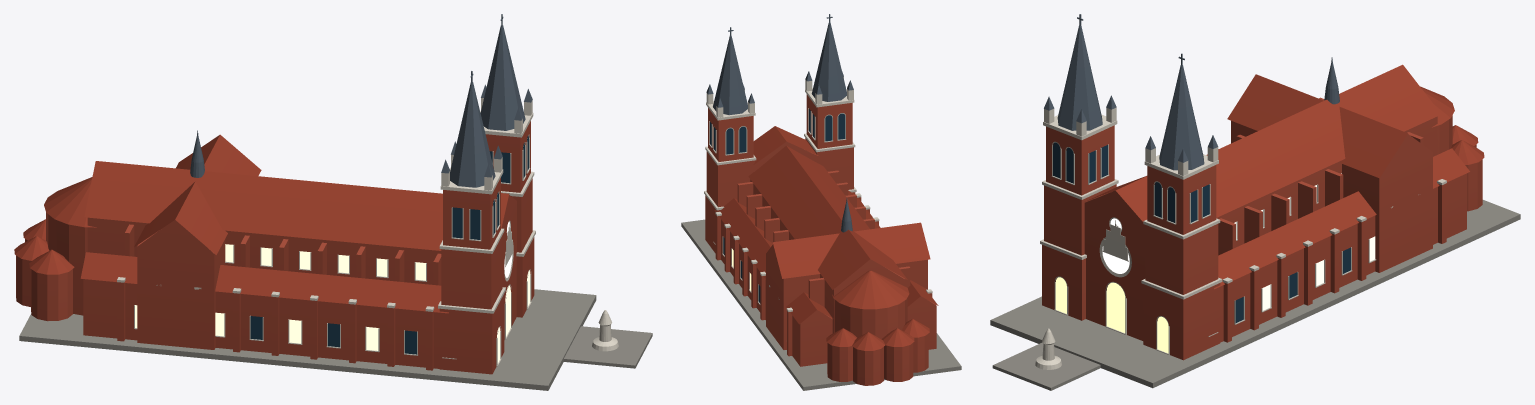
The model's file is nha_tho_duc_ba.glb.
3 views of the same model, side by side, from view 1: azimuth 30°, elevation 25°; view 2: azimuth 150°, elevation 25°; view 3: azimuth 270°, elevation 25° (orthographic). The views are drawn at different scales.
Visible parts, largest first — view 1: nha_tho_duc_ba; view 2: nha_tho_duc_ba; view 3: nha_tho_duc_ba.
Part boxes in pixels (box(x1,y1,x2,y2)): nha_tho_duc_ba: box(14, 14, 652, 390); nha_tho_duc_ba: box(681, 14, 961, 390); nha_tho_duc_ba: box(990, 14, 1520, 390).
Size of the model in its own units: 98.17 by 57.6 by 93.69.
